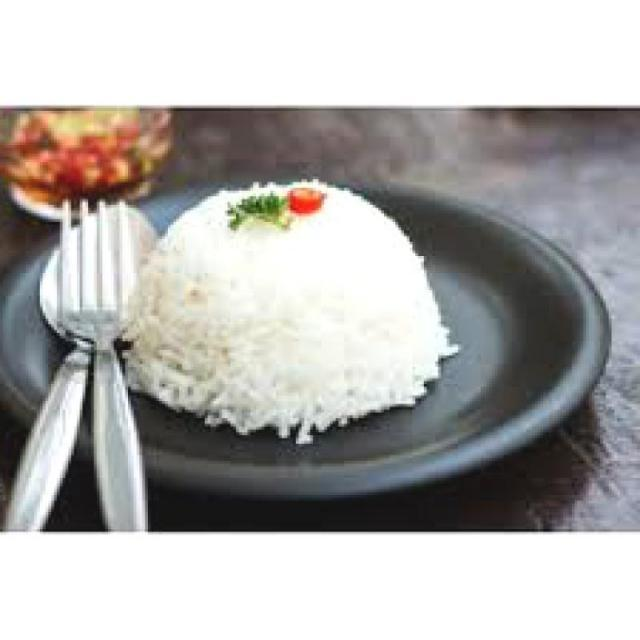Chicken -Chicken Inasal-: (126, 186, 457, 441)
